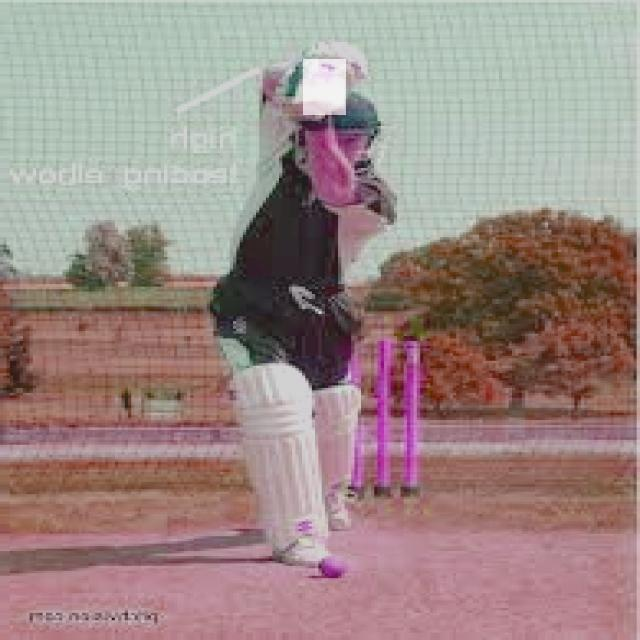bat: (301, 58, 347, 116)
toe: (301, 96, 345, 115)
